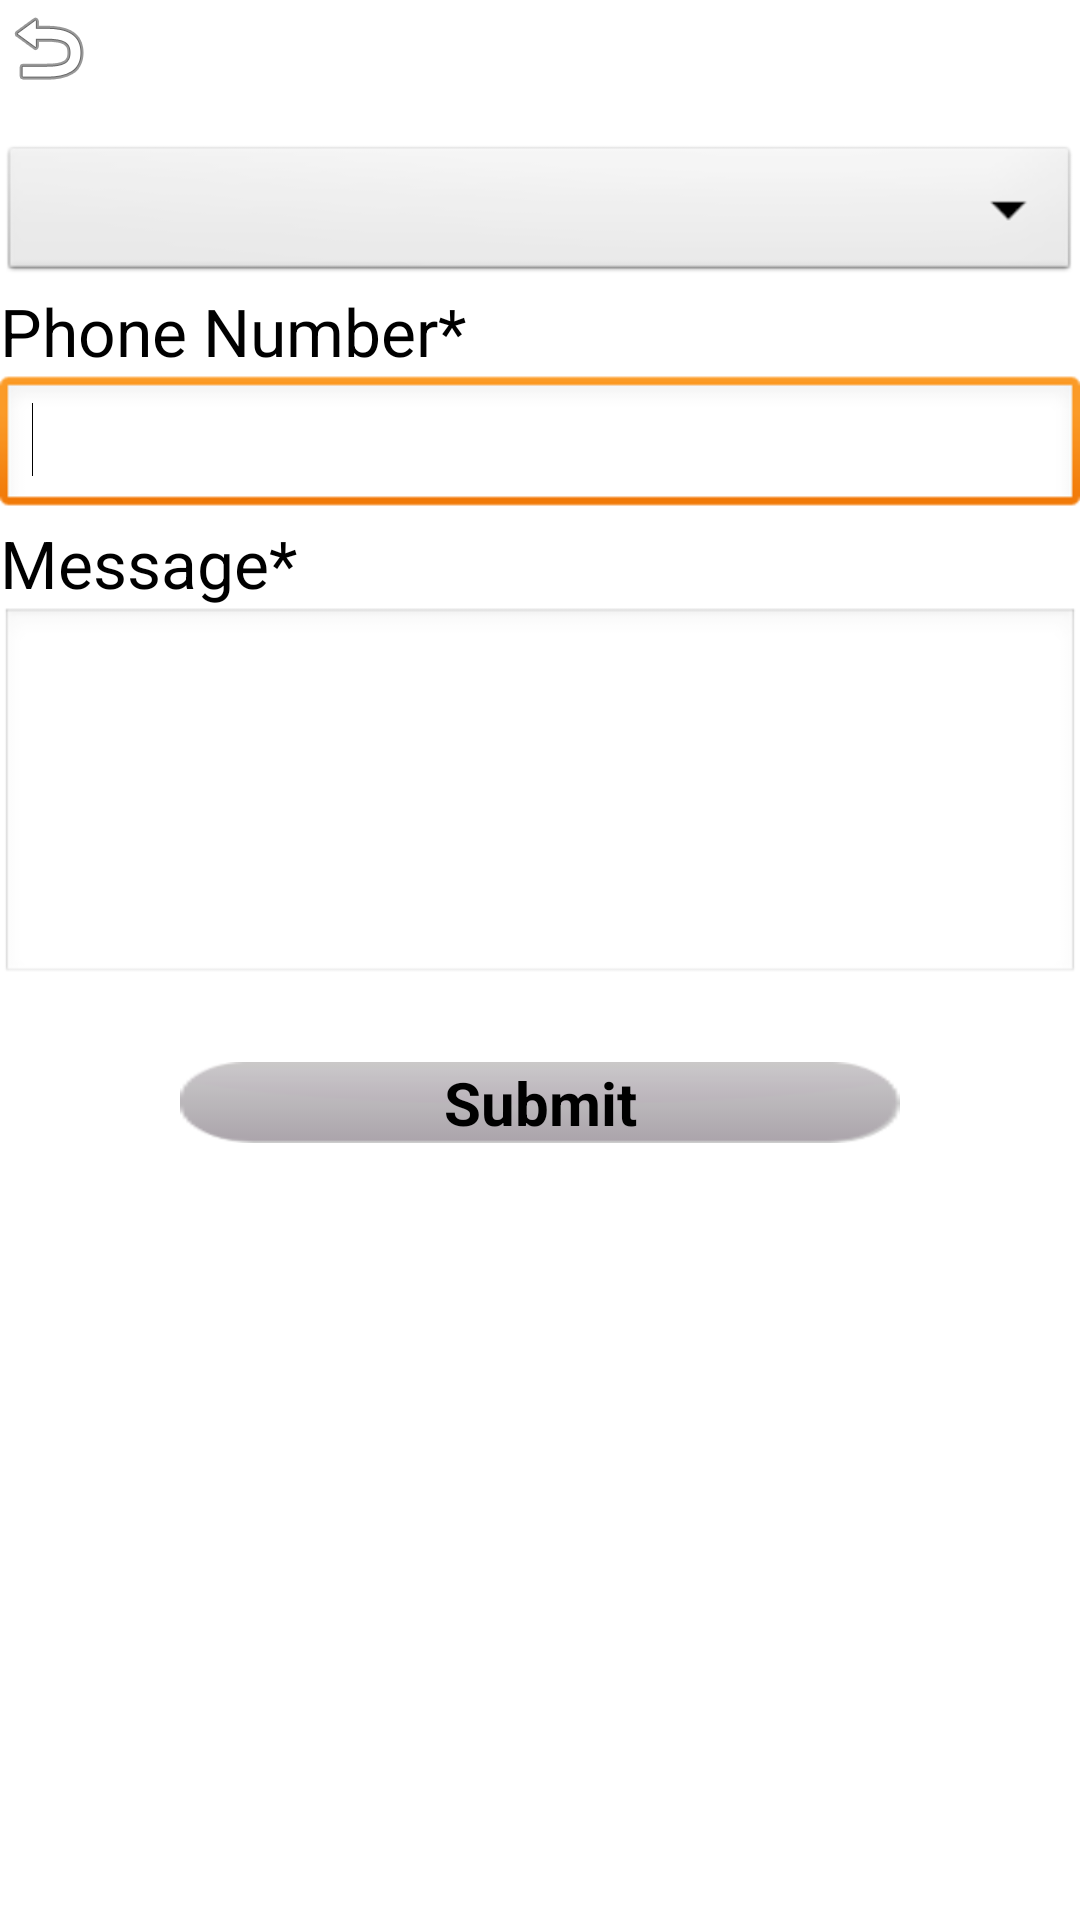

Screen size 1080*1920. Icon name, then its center in pixels as (x=x, y=y):
revert: (x=49, y=48)
